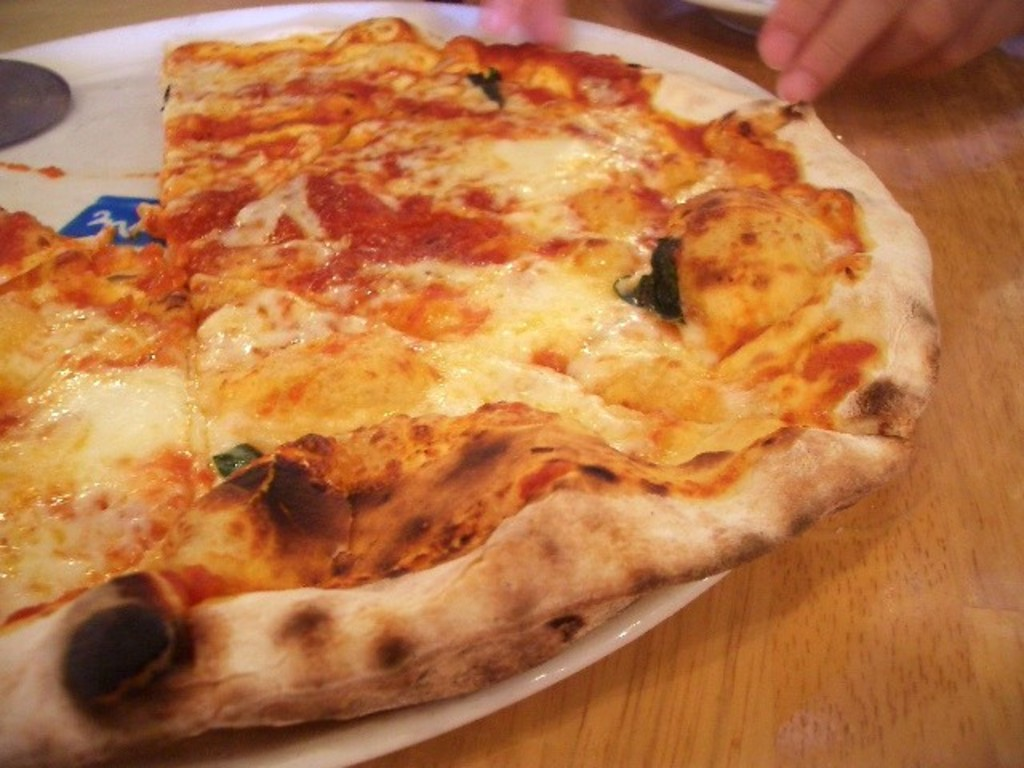pizza: (0, 10, 950, 765)
